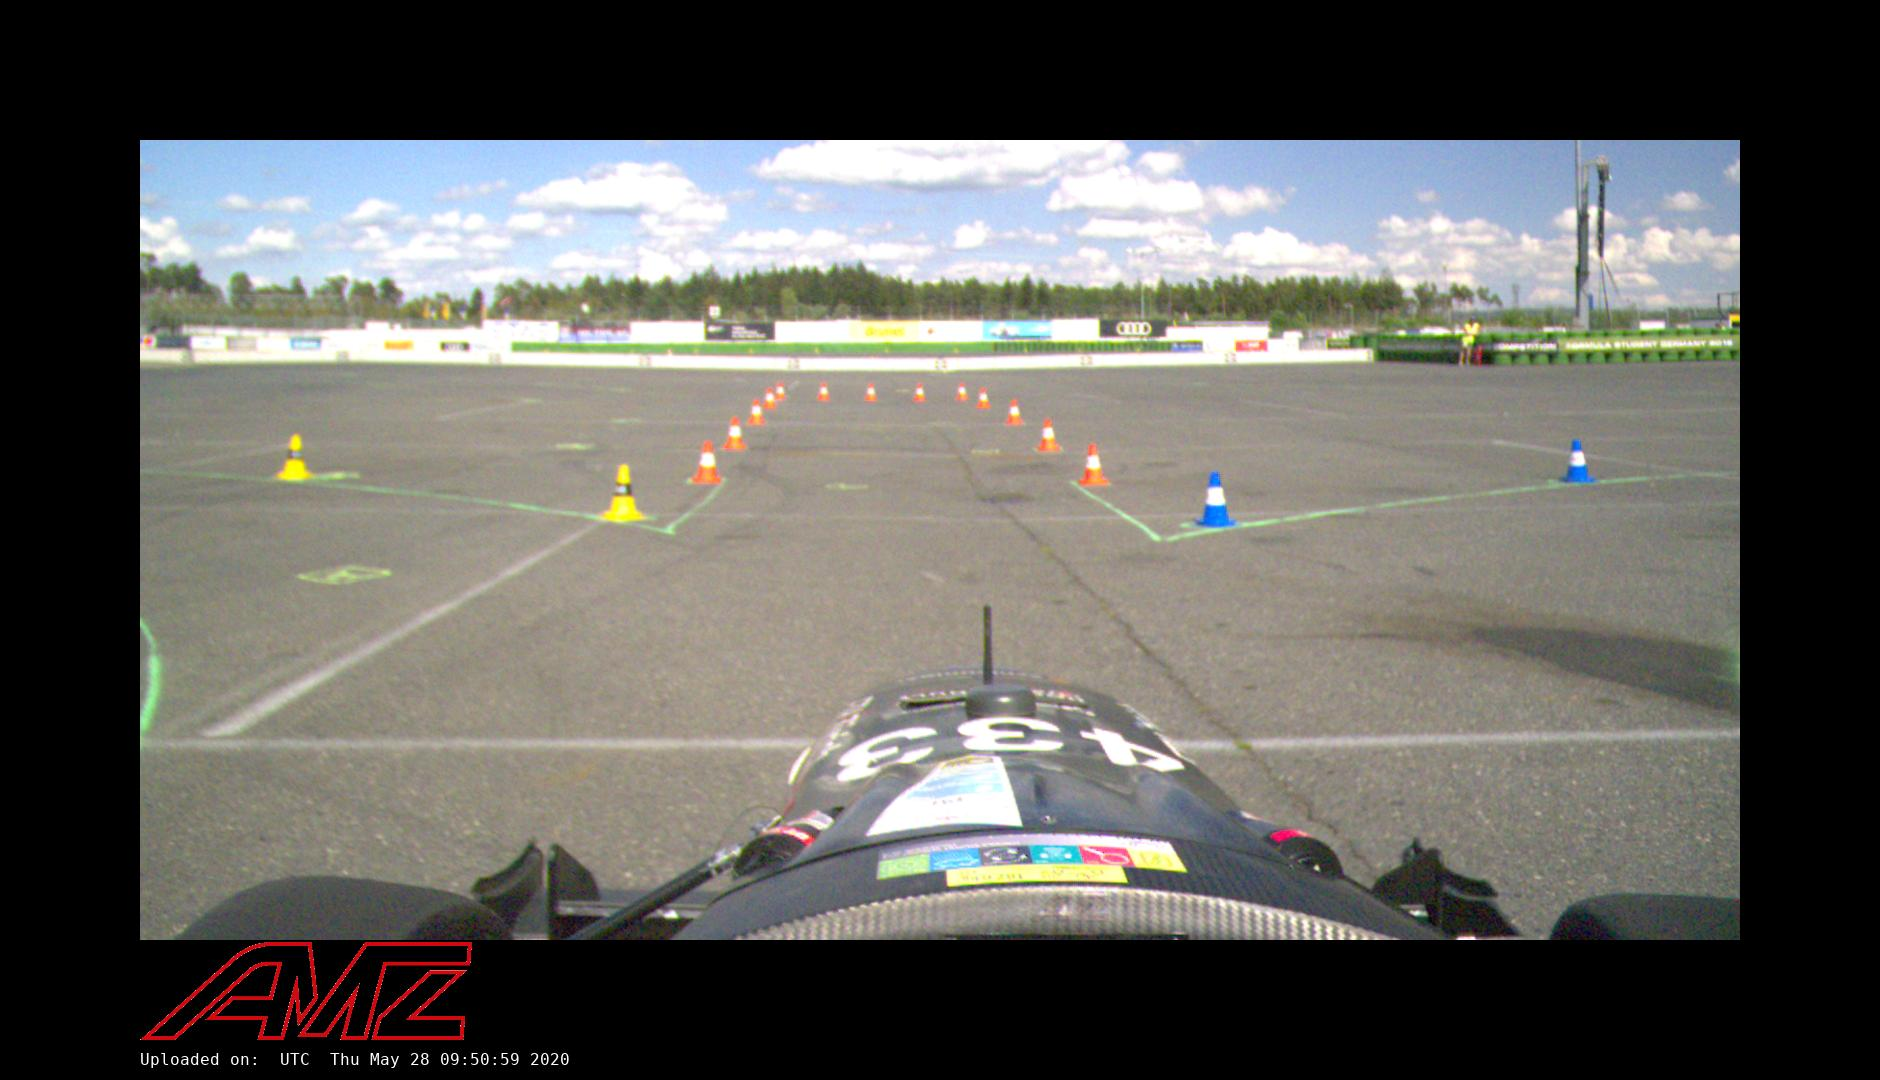blue_cone: (1195, 471, 1242, 529), (1560, 439, 1597, 484)
orange_cone: (691, 440, 721, 484), (1079, 444, 1110, 485), (723, 417, 748, 450), (1037, 419, 1061, 452), (1005, 400, 1024, 426), (747, 399, 766, 425), (762, 387, 777, 410), (976, 388, 991, 408), (816, 382, 831, 401), (956, 382, 969, 401), (913, 383, 926, 402), (774, 382, 787, 401), (864, 383, 877, 401)
yellow_cone: (601, 465, 647, 522), (276, 435, 311, 480)
